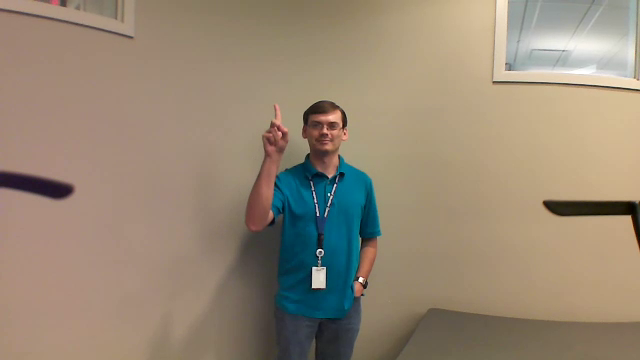up: (259, 96, 292, 158)
